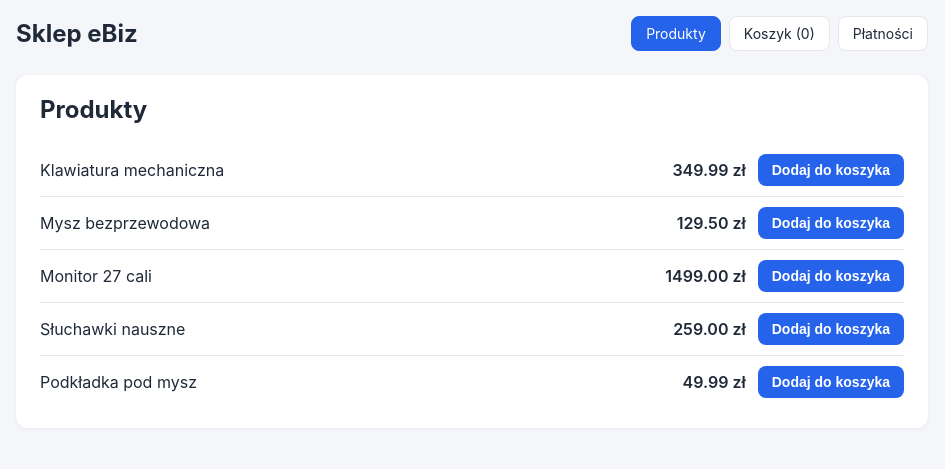
it: 18 - Pomyślna płatność › wysyła płatność i pokazuje status OK
Click the button "Dodaj do koszyka" in the row of "Klawiatura mechaniczna". click: (831, 170)
box: [758, 154, 904, 186]
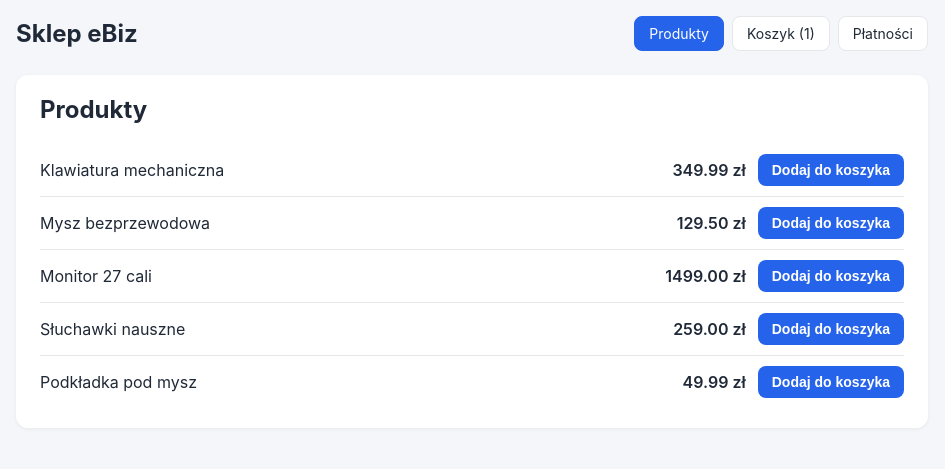
Click the link "Płatności". click: (883, 34)
box: [838, 16, 928, 51]
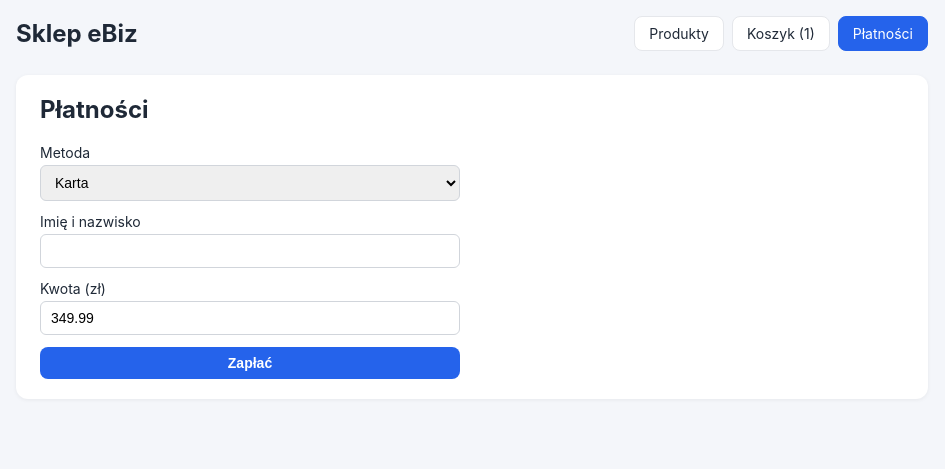
Type "Jan Kowalski" into the field labelled "Imię i nazwisko". click: (250, 251)
box: [40, 234, 460, 268]
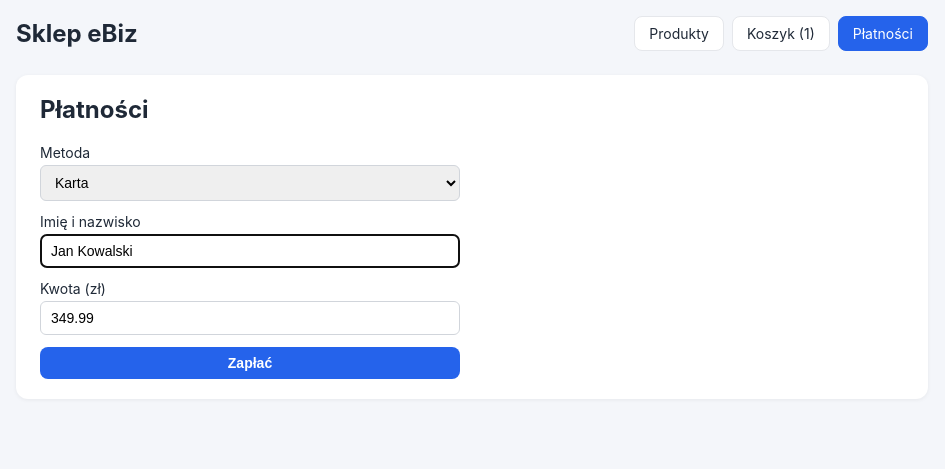
Click the button "Zapłać". click: (250, 363)
box: [40, 347, 460, 379]
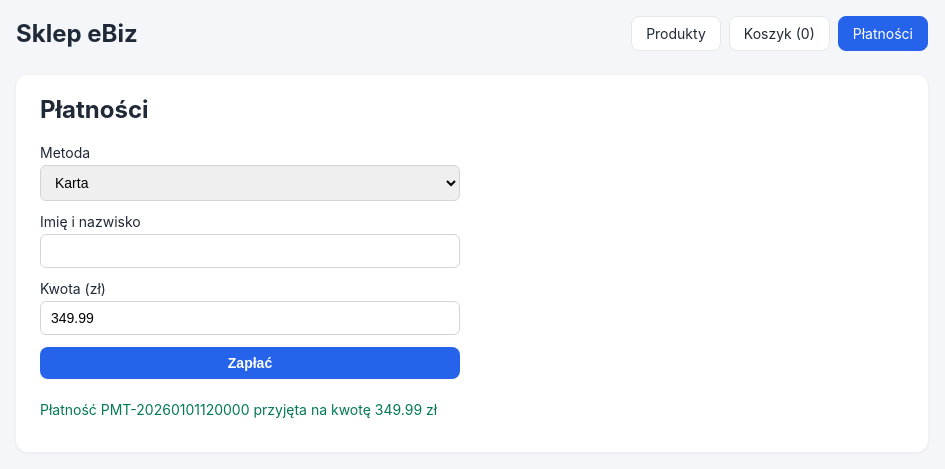
Now the text with class "status" shows "PMT-", box [40, 401, 460, 418]
Now the text with class "status" shows "349.99", box [40, 401, 460, 418]
